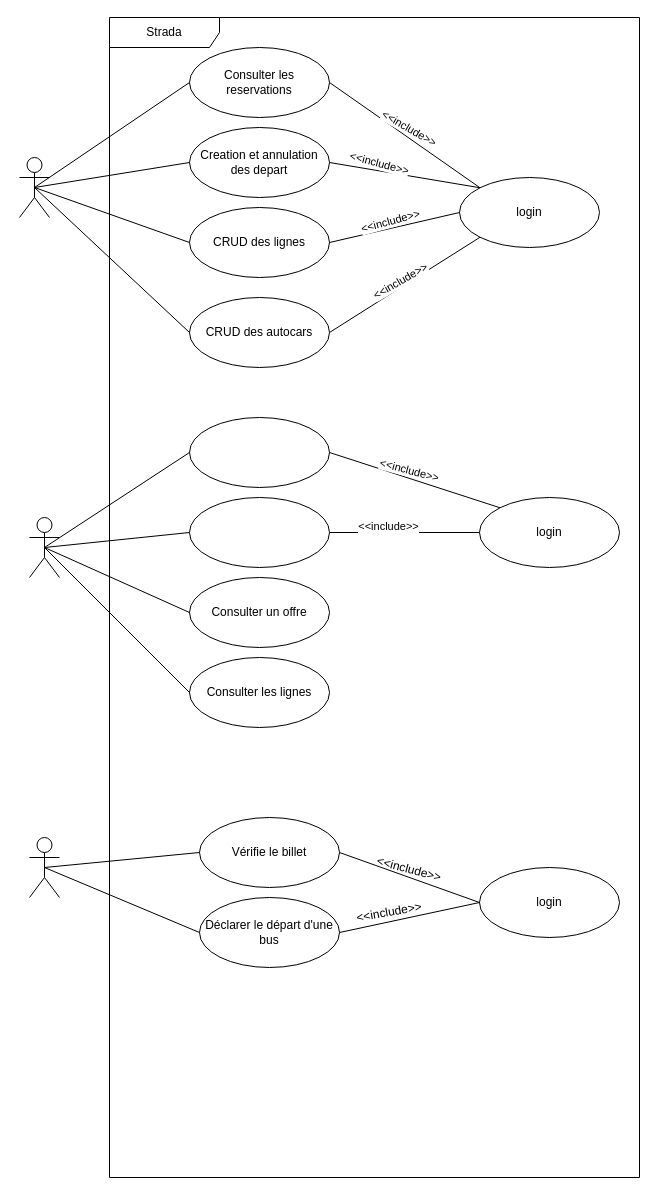
The diagram is 657 pixels wide and 1195 high, and some of its shapes have lost their labels. Each missing label, with the centre of its shape:
Admin: point 34,187
Agent: point 44,867
Annuler une reservation: point 259,532
Passager: point 44,547
Reserver un siege: point 259,452
